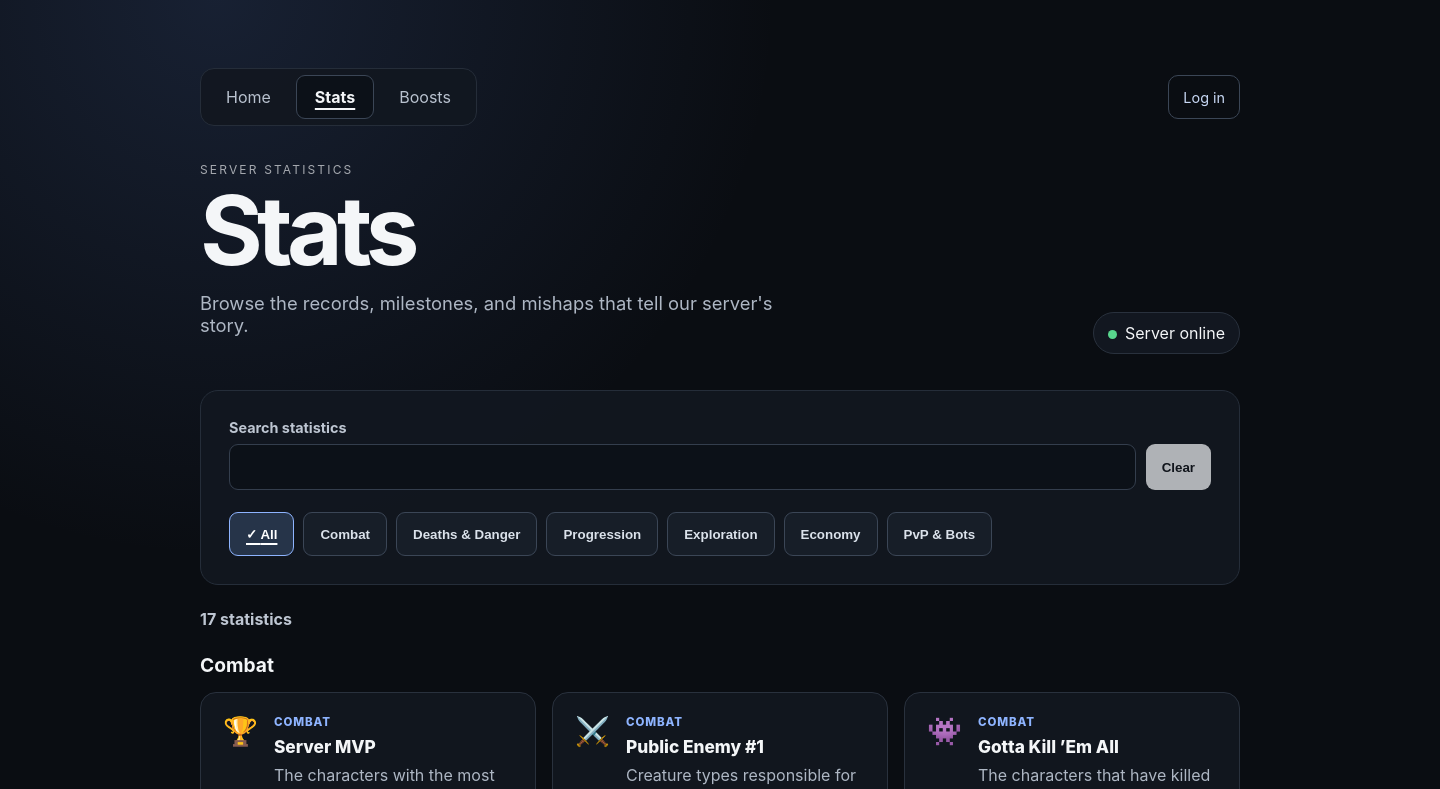
Test: statistics navigation and discovery › combines category and literal search filters and exposes recovery actions
The width and height of the screenshot is (1440, 789).
Click the button "Deaths & Danger" at (467, 534), box [396,512,537,556]
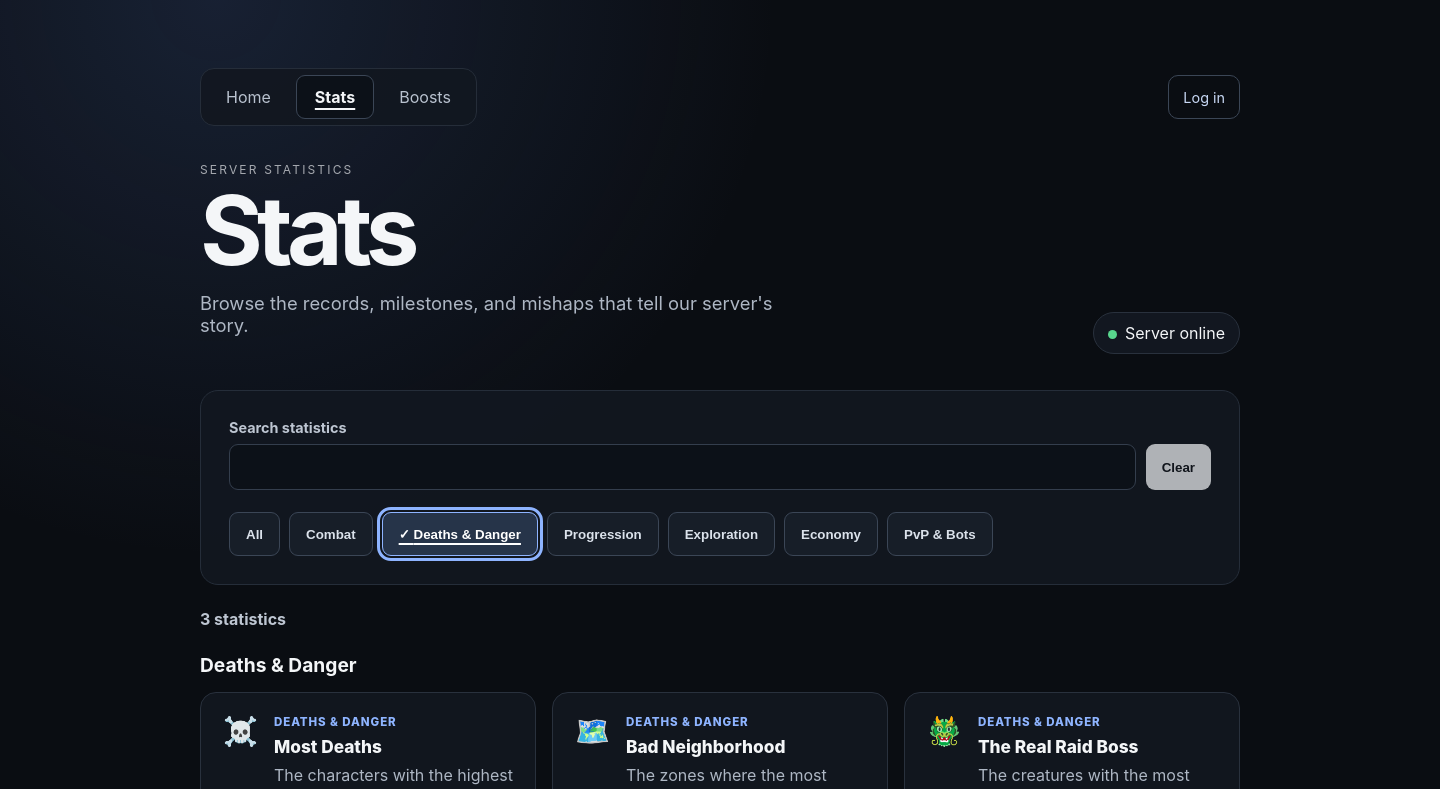
Type "raid boss" into the search field labelled "Search statistics" at (682, 467), box [229,444,1136,490]
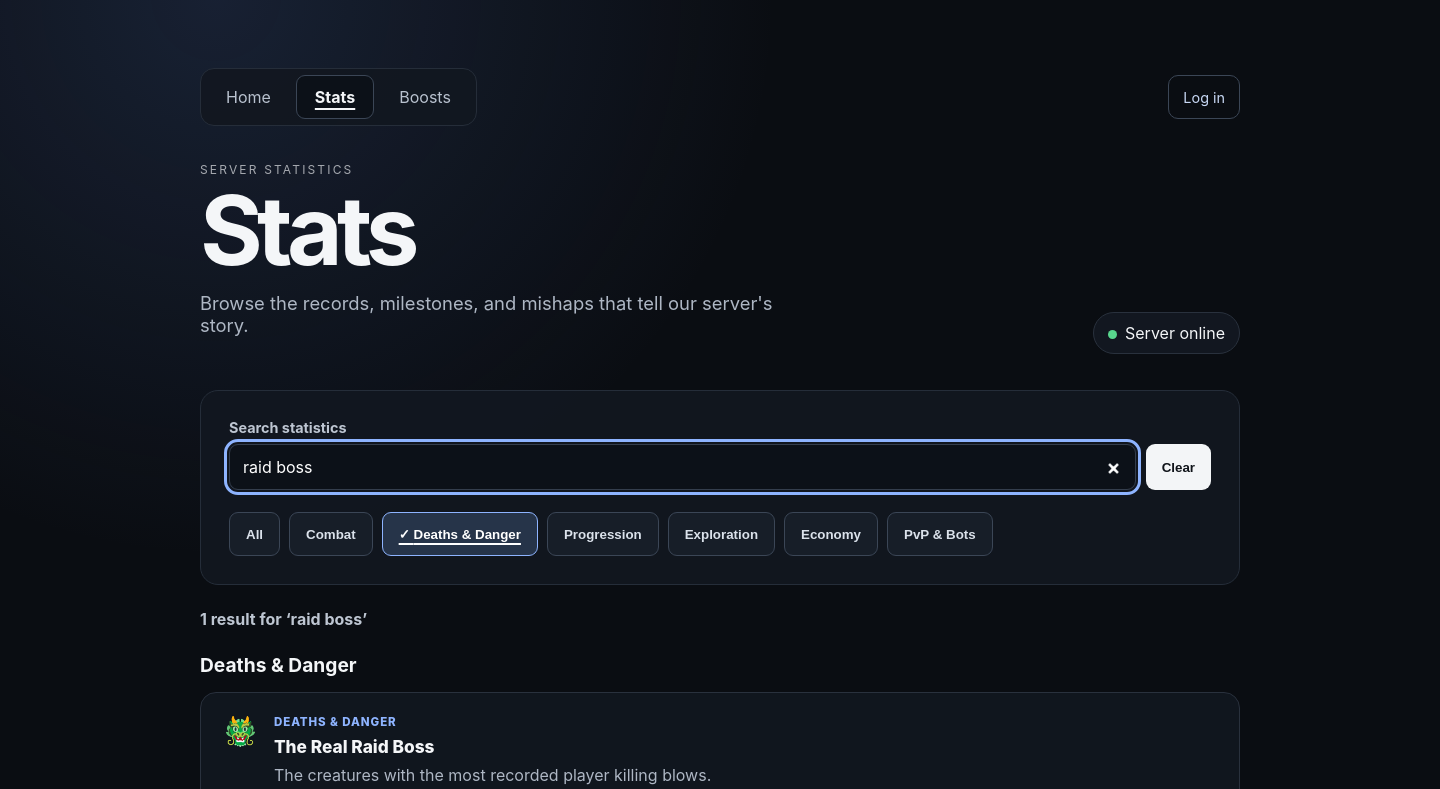
Expected: the link "Most Deaths" is gone
Replace the text in the search field labelled "Search statistics" with "[" at (682, 467), box [229,444,1136,490]
(page scrolled)
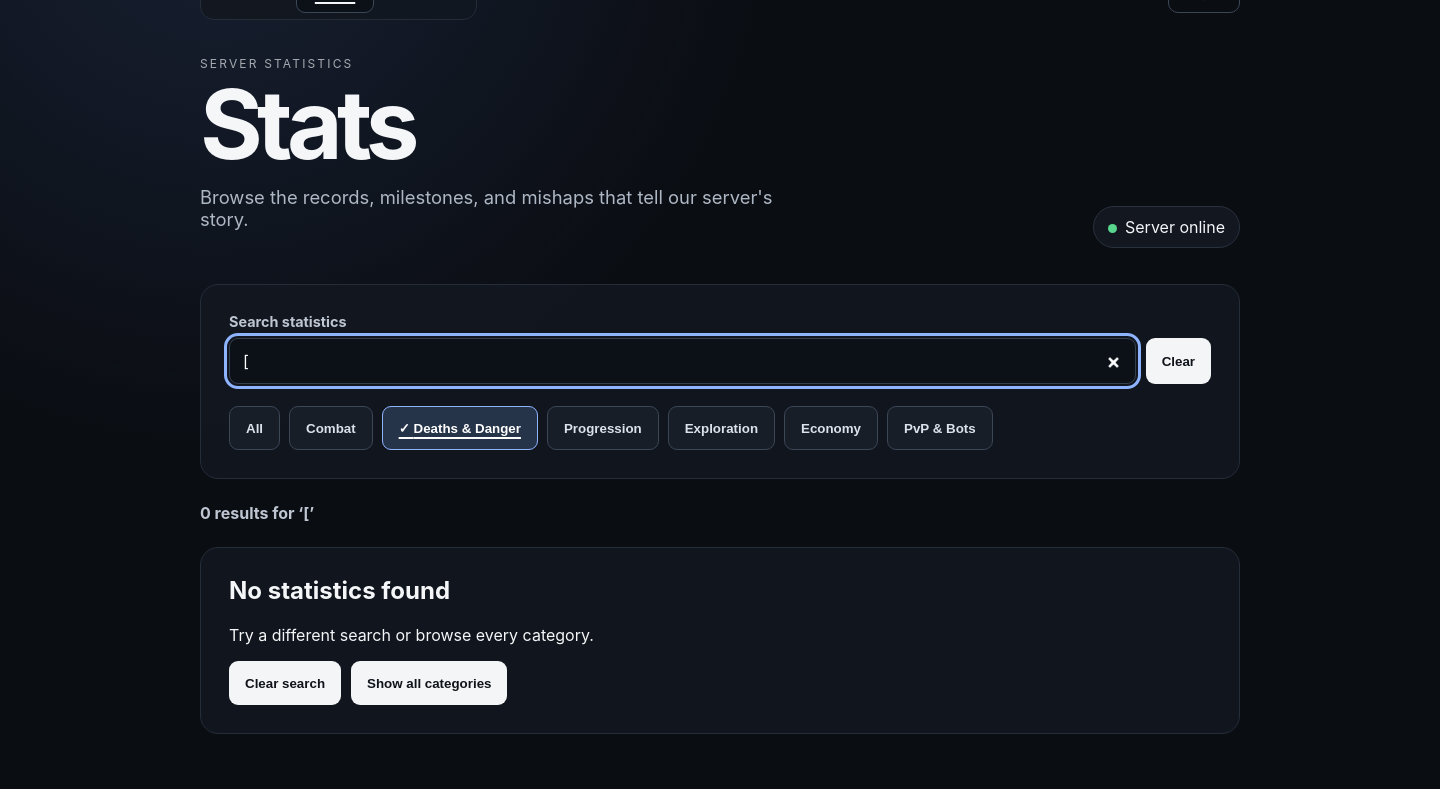
Expected: the heading "No statistics found" is shown, [229,576,450,605]
Click the button "Clear search" at (285, 683), box [229,661,341,705]
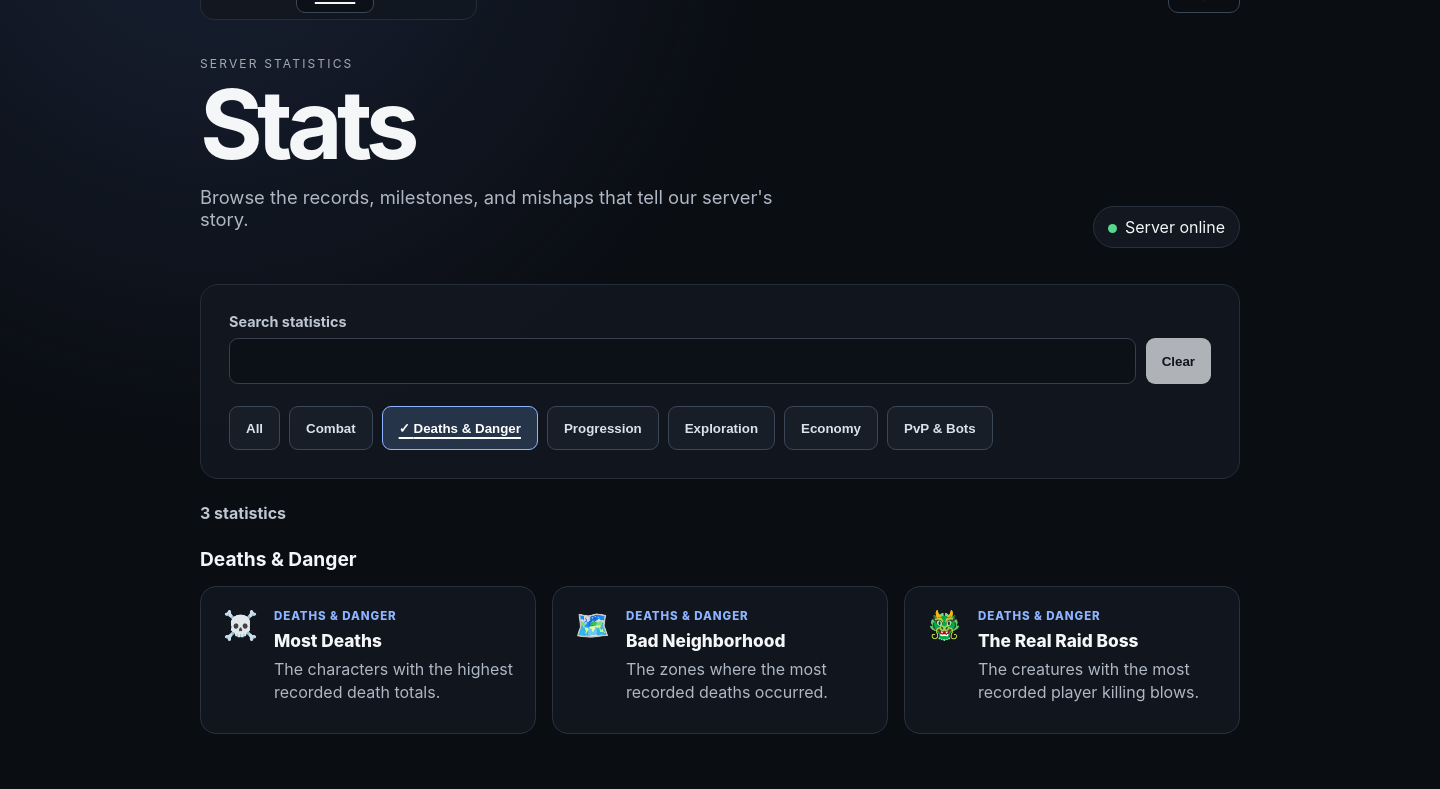
Expected: the link "Most Deaths" is shown, [200,586,536,734]
Type "vendor" into the search field labelled "Search statistics" at (682, 361), box [229,338,1136,384]
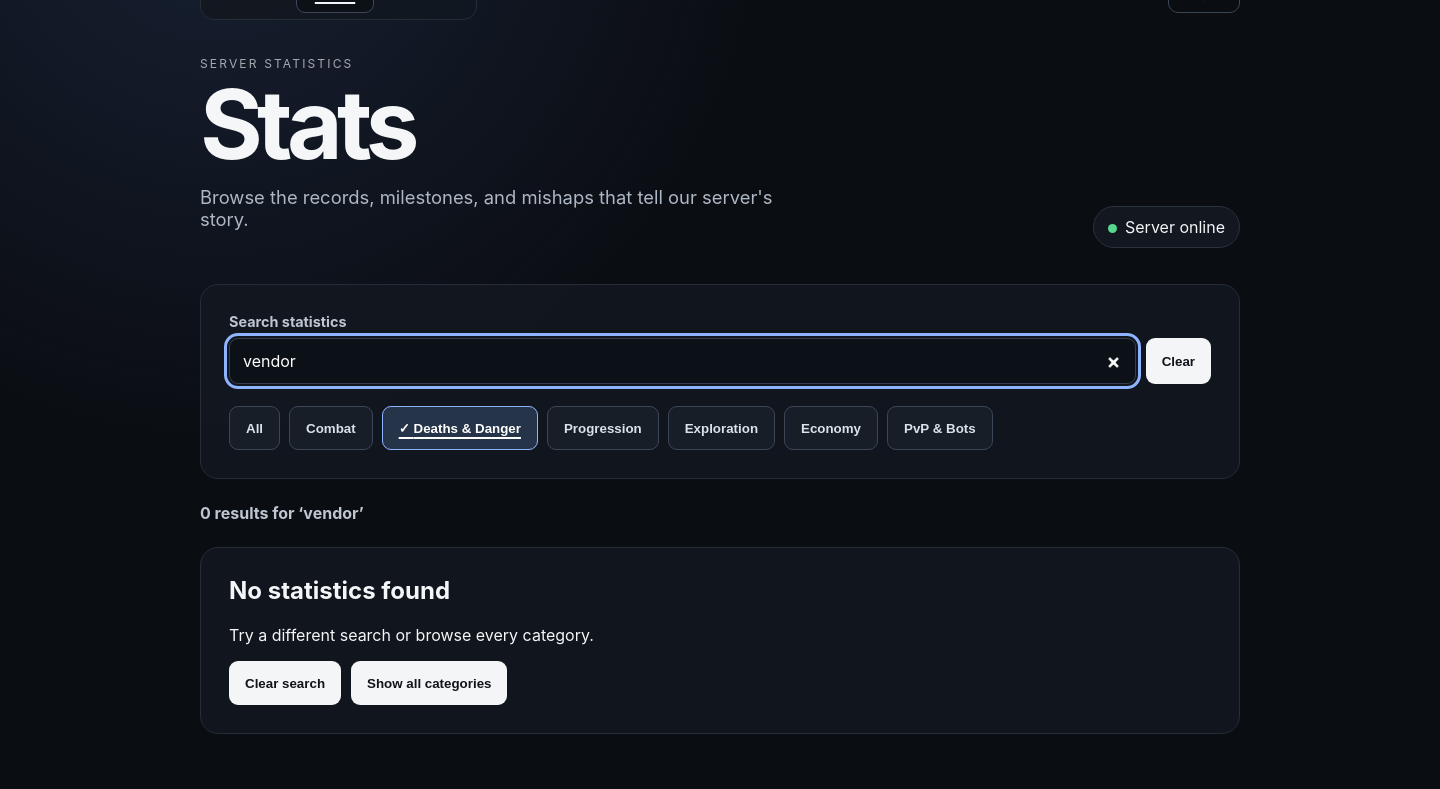
Click the button "Show all categories" at (429, 683), box [351,661,507,705]
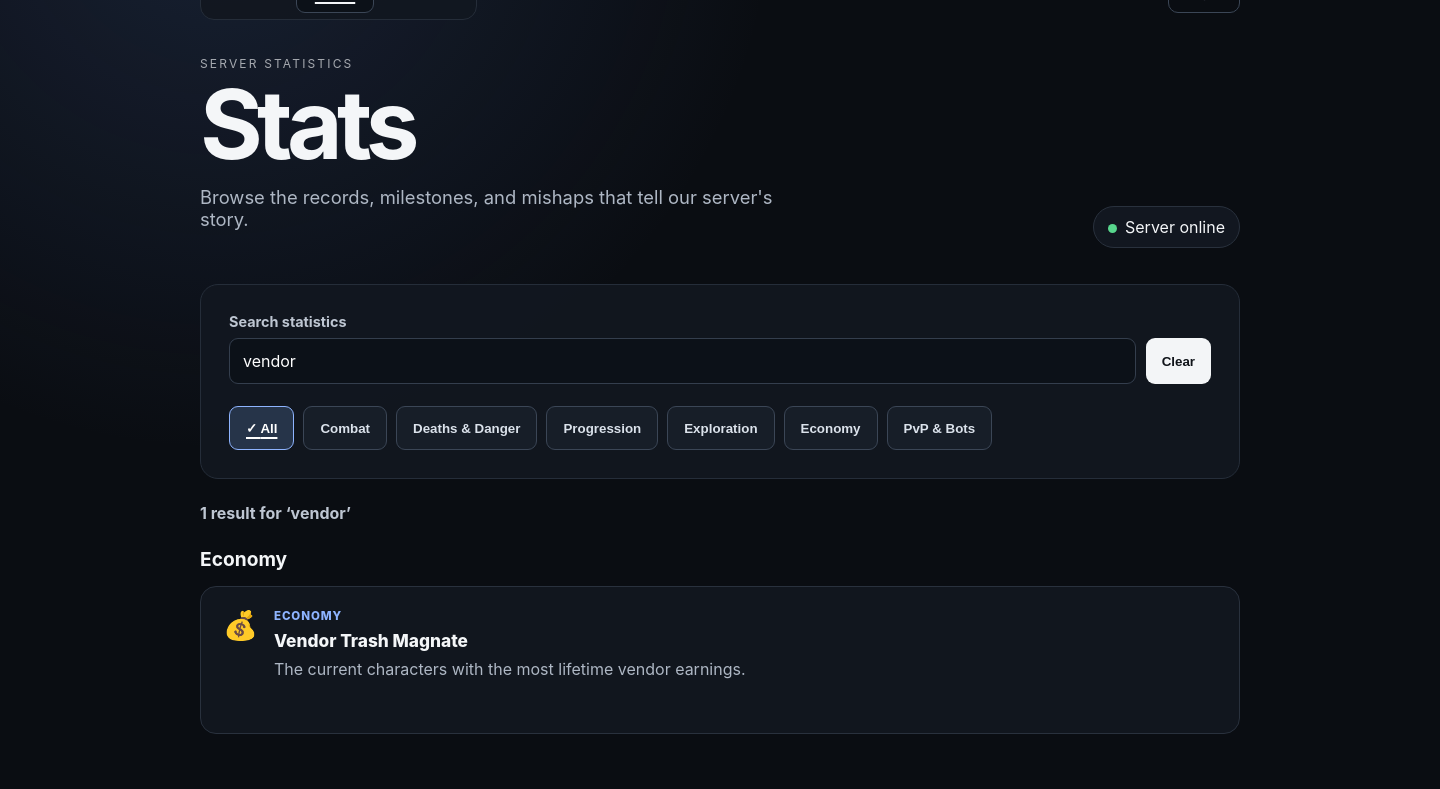
Expected: the link "Vendor Trash Magnate" is shown, [200,586,1240,734]
